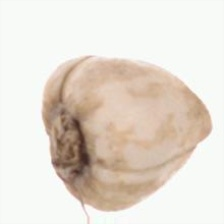L4: (42, 54, 213, 212)
